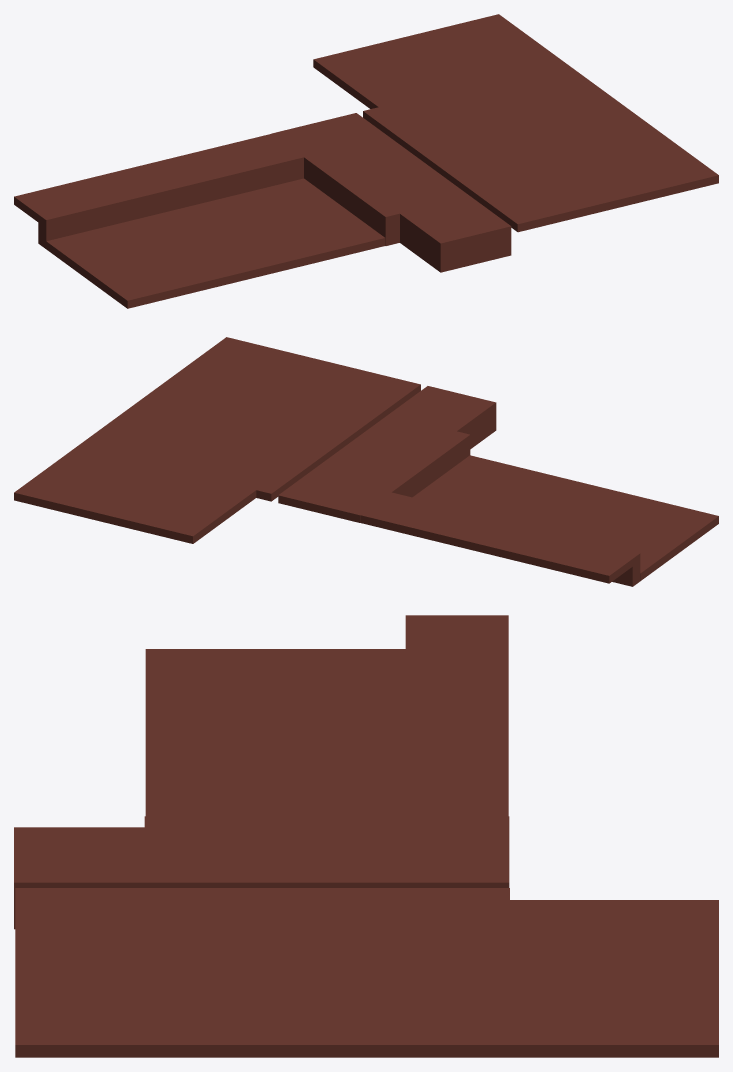
Rendered from Floor.fbx.
3 views of the same model, one above another, from view 1: azimuth 30°, elevation 25°; view 2: azimuth 150°, elevation 25°; view 3: azimuth 270°, elevation 25° (orthographic). The views are drawn at different scales.
Parts seen in each view (by area): view 1: OfficeFloor, WarehouseBase, TruckFloor; view 2: OfficeFloor, WarehouseBase, TruckFloor; view 3: OfficeFloor, WarehouseBase, TruckFloor.
Part boxes in pixels (x1,y1,x2,y2): OfficeFloor: (313, 14, 718, 232); WarehouseBase: (14, 113, 511, 272); TruckFloor: (46, 178, 385, 308); OfficeFloor: (14, 337, 420, 543); WarehouseBase: (278, 386, 640, 586); TruckFloor: (412, 455, 718, 580); OfficeFloor: (15, 888, 718, 1057); WarehouseBase: (14, 615, 509, 929); TruckFloor: (145, 649, 405, 816).
Bounding box in the file's own units: 38.92 × 1.97 × 27.
